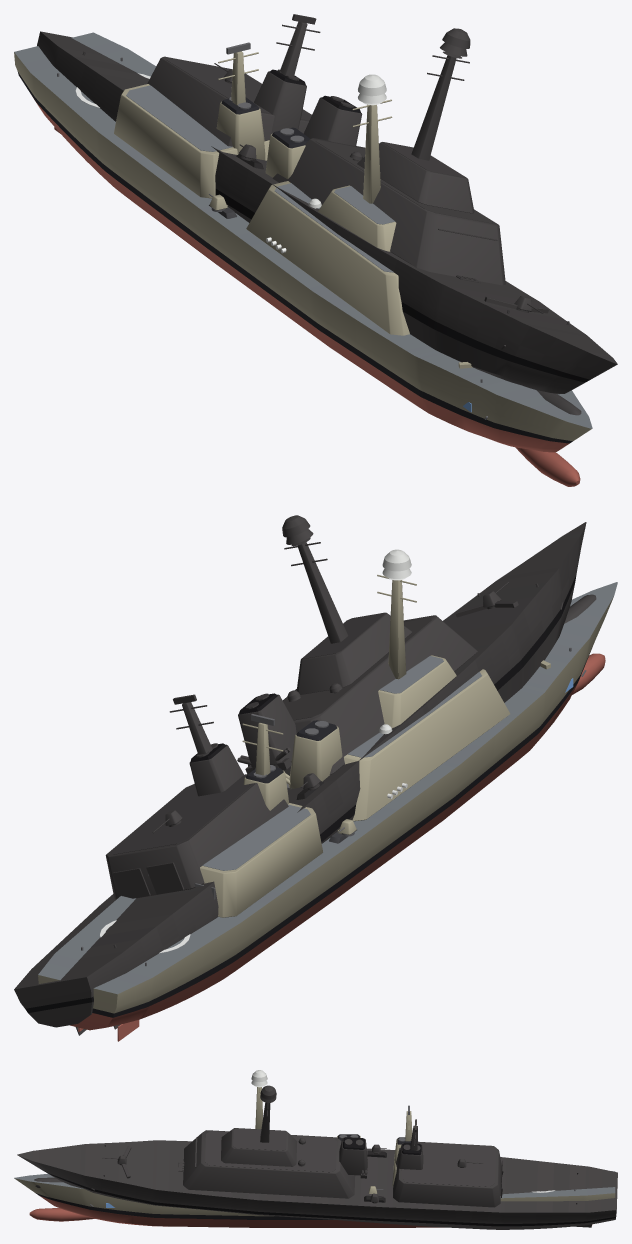
The model's file is asFrigate__fremm_asw_italy.glb.
3 renders of one model, top to bottom at view 1: azimuth 30°, elevation 25°; view 2: azimuth 150°, elevation 25°; view 3: azimuth 270°, elevation 25°, orthographic. The views are drawn at different scales.
Parts seen in each view (by area): view 1: Hull_Mesh, Wreck; view 2: Hull_Mesh, Wreck; view 3: Wreck, Hull_Mesh.
Boxes of the visible parts, x1=… form: Hull_Mesh: x1=14, y1=32, x2=592, y2=486; Wreck: x1=37, y1=14, x2=617, y2=415; Hull_Mesh: x1=38, y1=549, x2=617, y2=1041; Wreck: x1=14, y1=515, x2=596, y2=1035; Wreck: x1=17, y1=1085, x2=617, y2=1229; Hull_Mesh: x1=14, y1=1070, x2=615, y2=1227.
Size of what is drawn, in the model's own units: 26.74 by 44.39 by 151.
